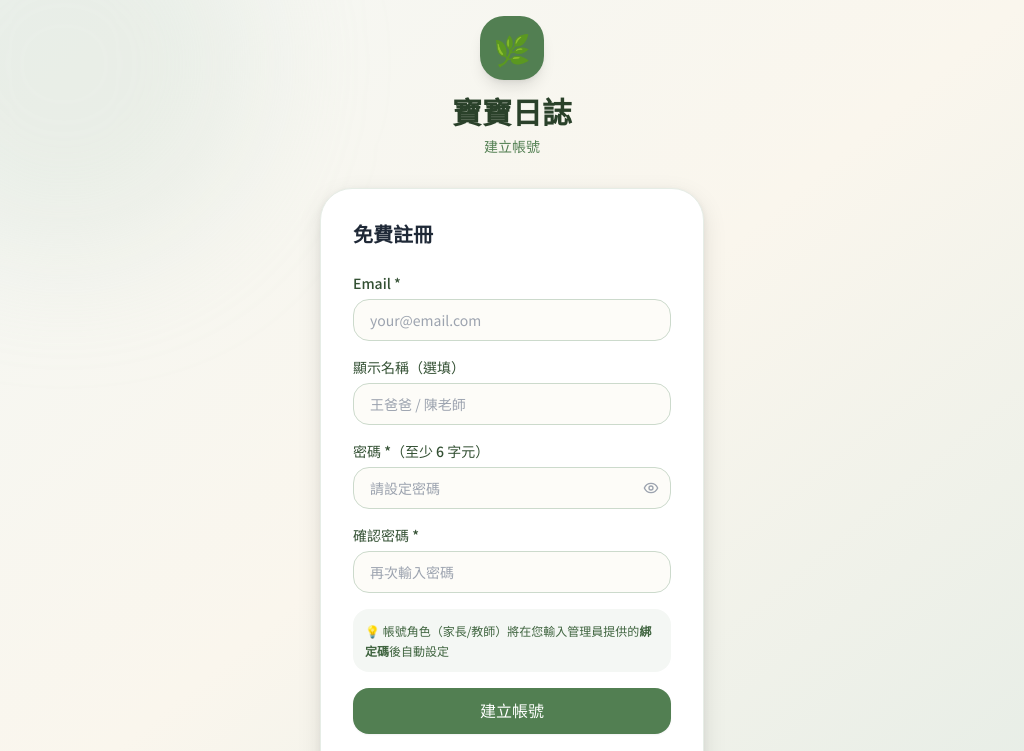
RegisterPage › password mismatch shows error
Type "x@x.com" into the field with placeholder "your@email.com" at [512, 320], box [353,299,671,341]
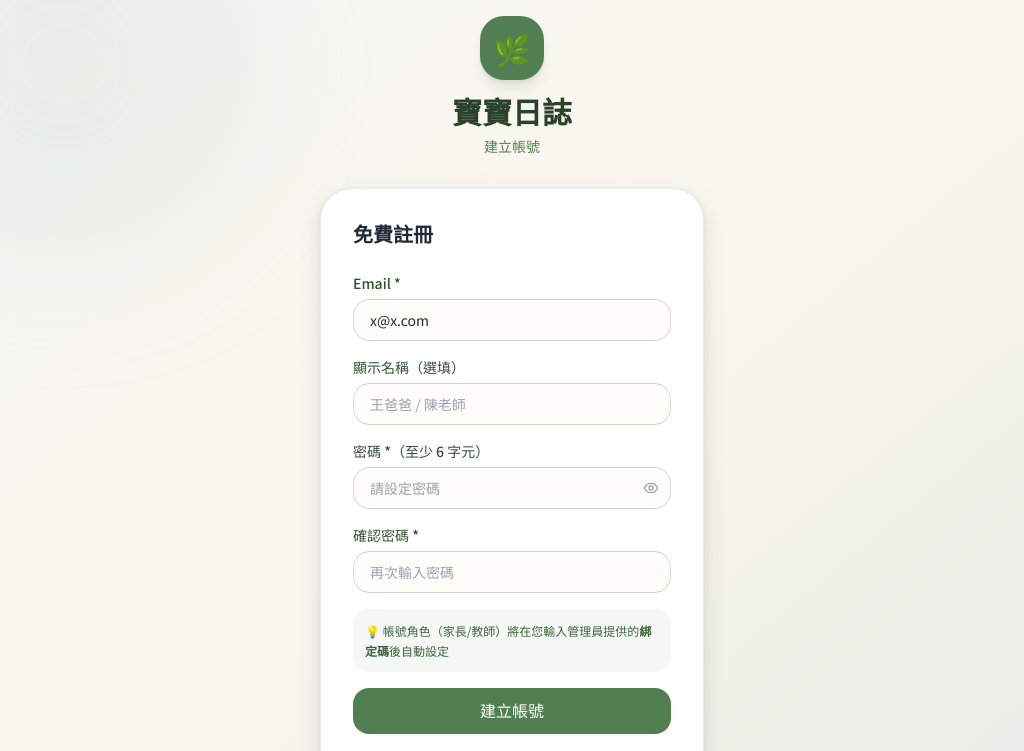
Type "abc123" into the password field with placeholder "請設定密碼" at [512, 488], box [353,467,671,509]
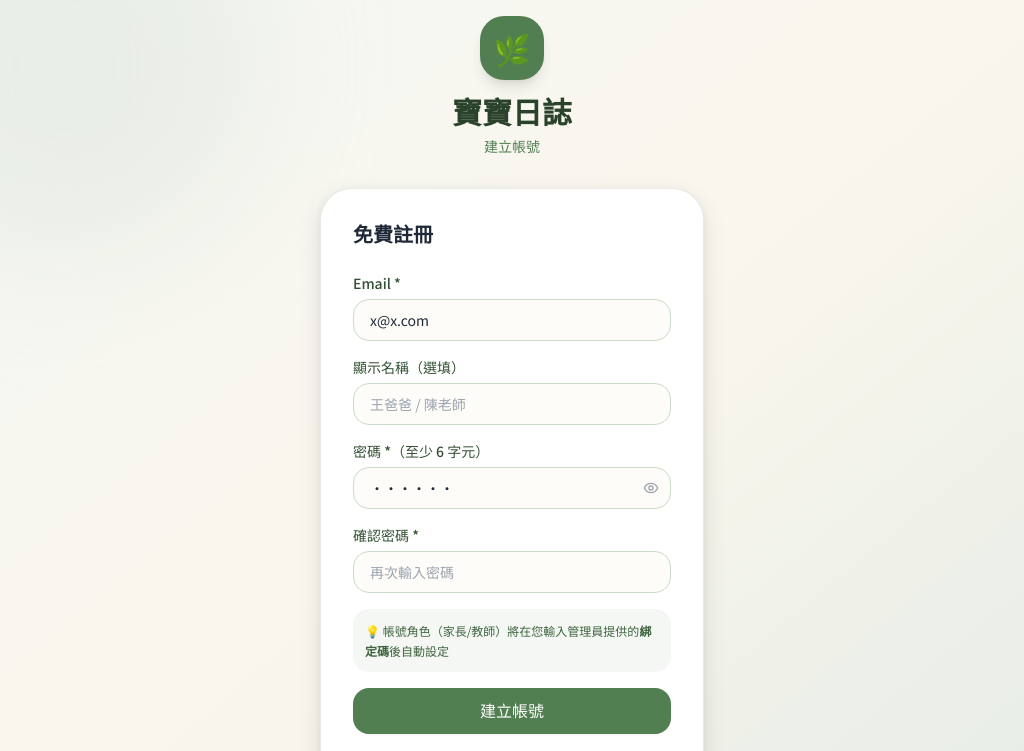
Type "different" into the password field with placeholder "再次輸入密碼" at [512, 572], box [353,551,671,593]
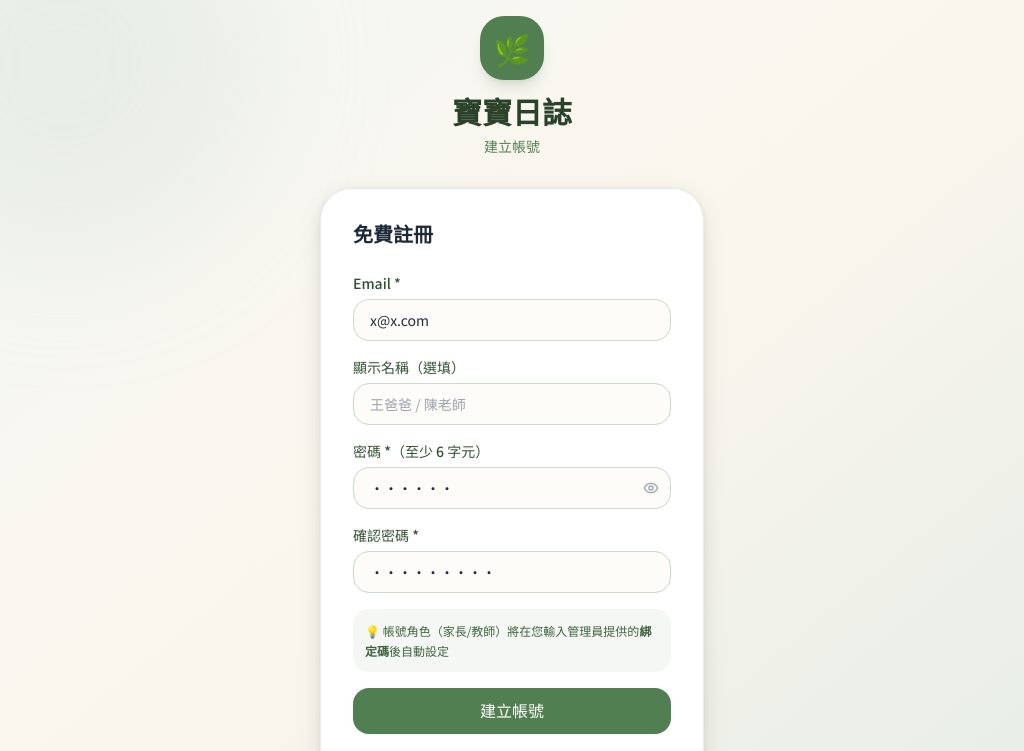
Click the button "建立帳號" at [512, 711], box [353,688,671,734]
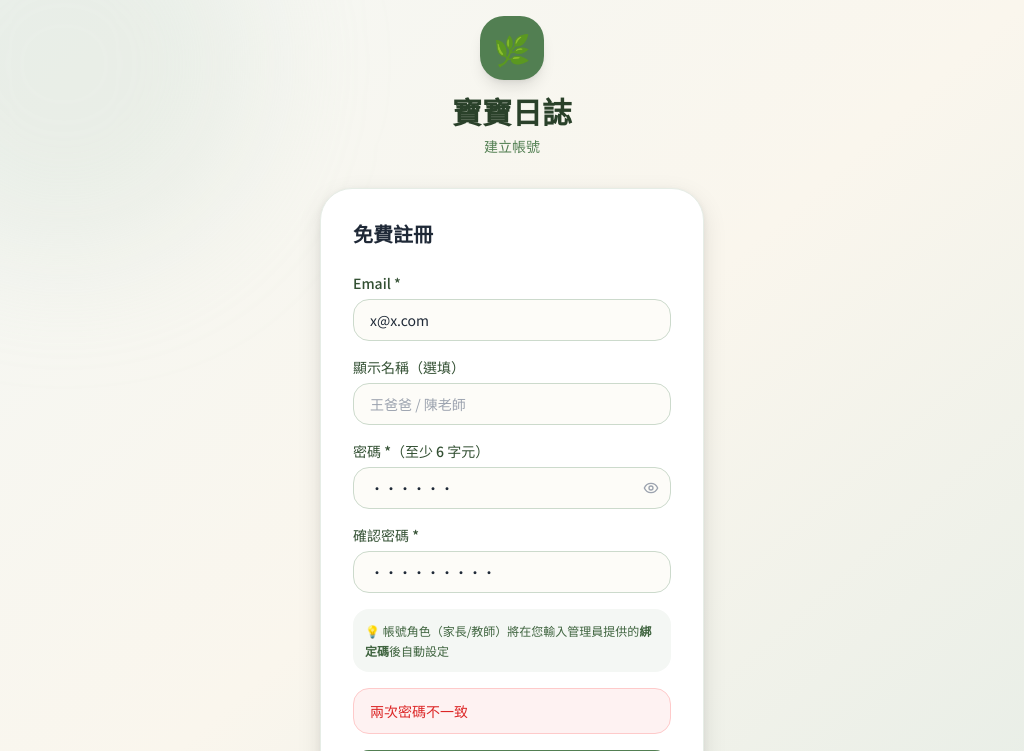
Check: the text "兩次密碼不一致" is shown, box [353,688,671,734]
